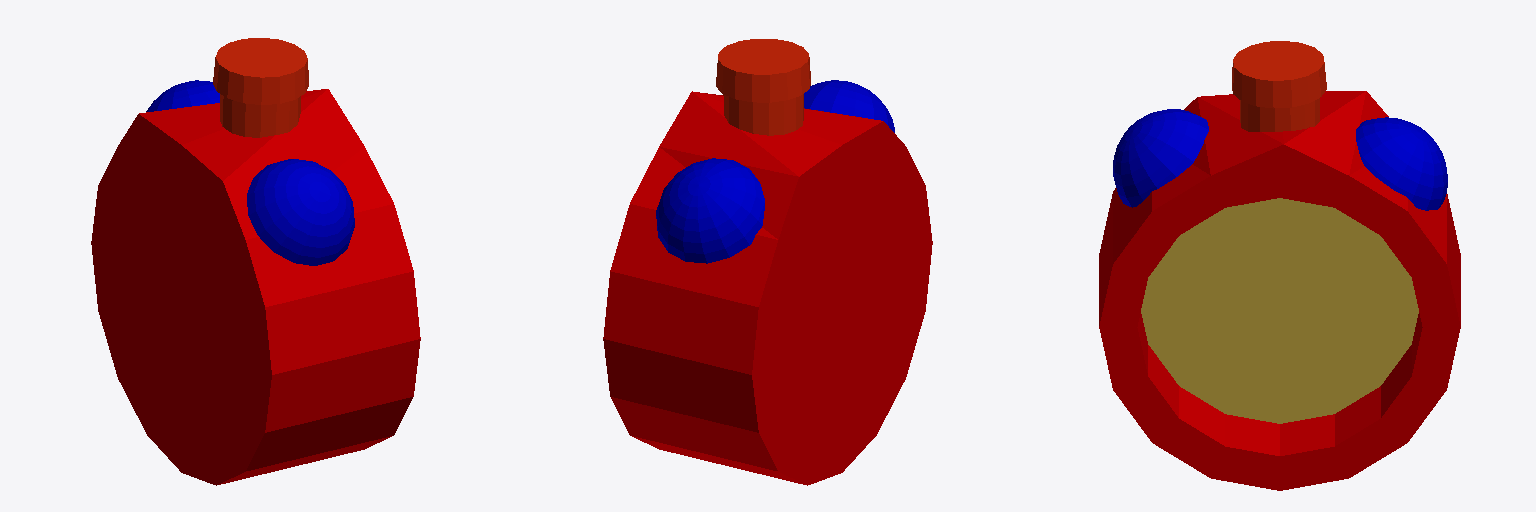
File: alarm4.obj
3 views of the same model, side by side, from view 1: azimuth 30°, elevation 25°; view 2: azimuth 150°, elevation 25°; view 3: azimuth 270°, elevation 25° (orthographic).
Parts seen in each view (by area): view 1: Cube.007; view 2: Cube.007; view 3: Cube.007.
Part boxes in pixels (bbox=[...]): Cube.007: bbox=[91, 38, 420, 485]; Cube.007: bbox=[603, 39, 932, 485]; Cube.007: bbox=[1099, 41, 1460, 490].
Bounding box in the file's own units: 35.5 × 90.71 × 74.78.